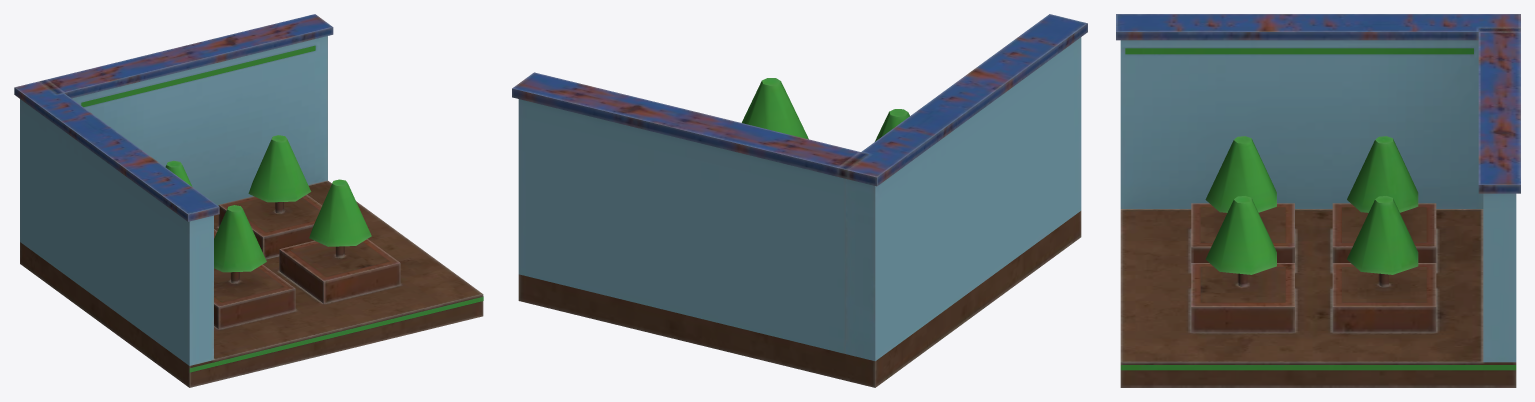
The model's file is greenhouse.glb.
3 renders of one model, left to right at view 1: azimuth 30°, elevation 25°; view 2: azimuth 150°, elevation 25°; view 3: azimuth 270°, elevation 25°, orthographic. The views are drawn at different scales.
Visible parts, largest first — view 1: te_greenhouse; view 2: te_greenhouse; view 3: te_greenhouse.
Boxes of the visible parts, x1,y1,x2,y2 form: te_greenhouse: (14, 14, 483, 387); te_greenhouse: (512, 14, 1087, 387); te_greenhouse: (1116, 14, 1520, 387).
Bounding box in the file's own units: 0.86 × 0.48 × 0.86.
Materials: 1 (1 with a texture image).
